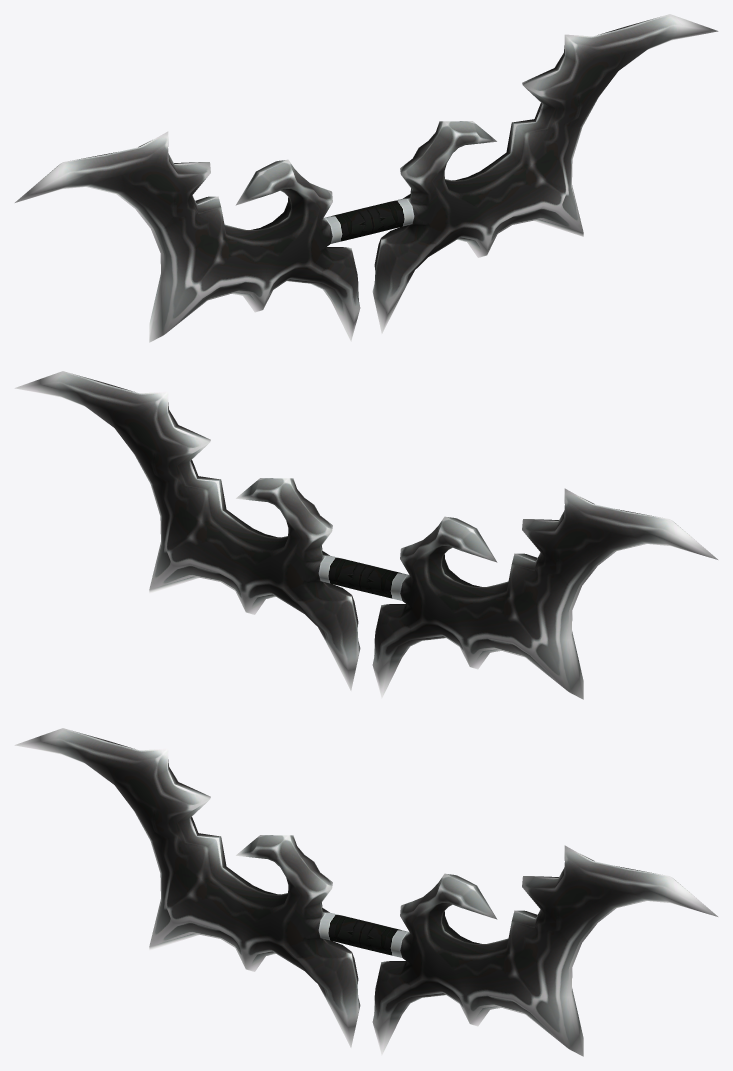
Rendered from item_weabowmgm2501-et07.glb.
3 renders of one model, top to bottom at view 1: azimuth 30°, elevation 25°; view 2: azimuth 150°, elevation 25°; view 3: azimuth 330°, elevation 25°, orthographic.
Visible parts, largest first — view 1: FlyffMesh; view 2: FlyffMesh; view 3: FlyffMesh.
Part boxes in pixels (x1=…): FlyffMesh: x1=15, y1=14, x2=718, y2=342; FlyffMesh: x1=14, y1=371, x2=717, y2=699; FlyffMesh: x1=14, y1=728, x2=717, y2=1056.
Size of the model in its own units: 1.72 by 0.5959 by 0.1294.
1 material, 1 textured.
